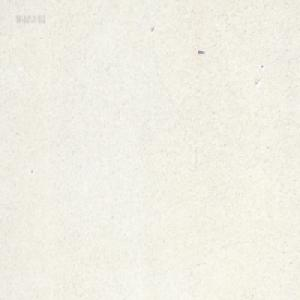Nail: (197, 49, 204, 54)
